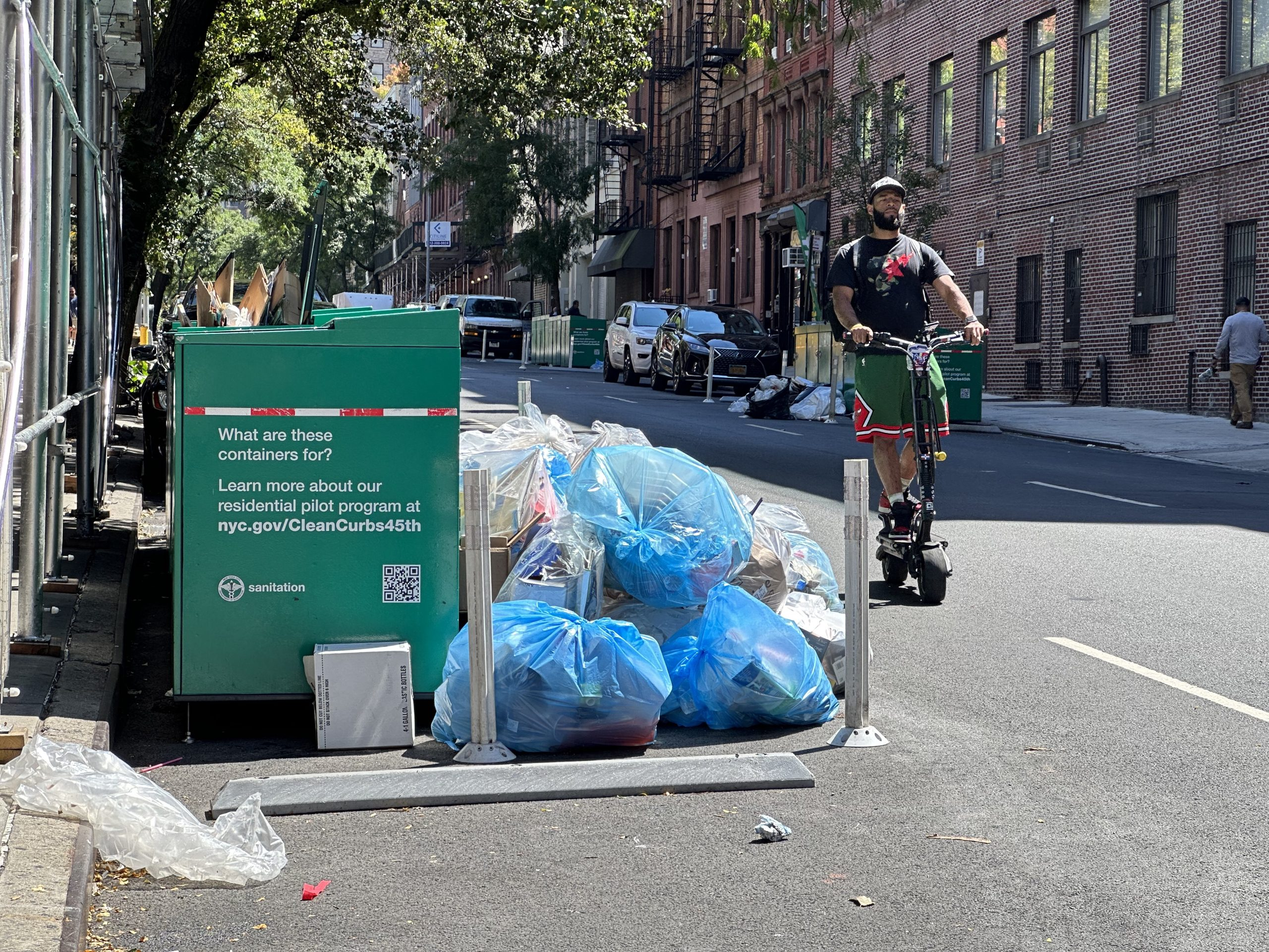Person: (830, 170, 974, 512), (652, 292, 790, 404), (1210, 287, 1269, 433), (602, 294, 683, 385), (447, 285, 530, 354)
Tree: (64, 0, 327, 316)
